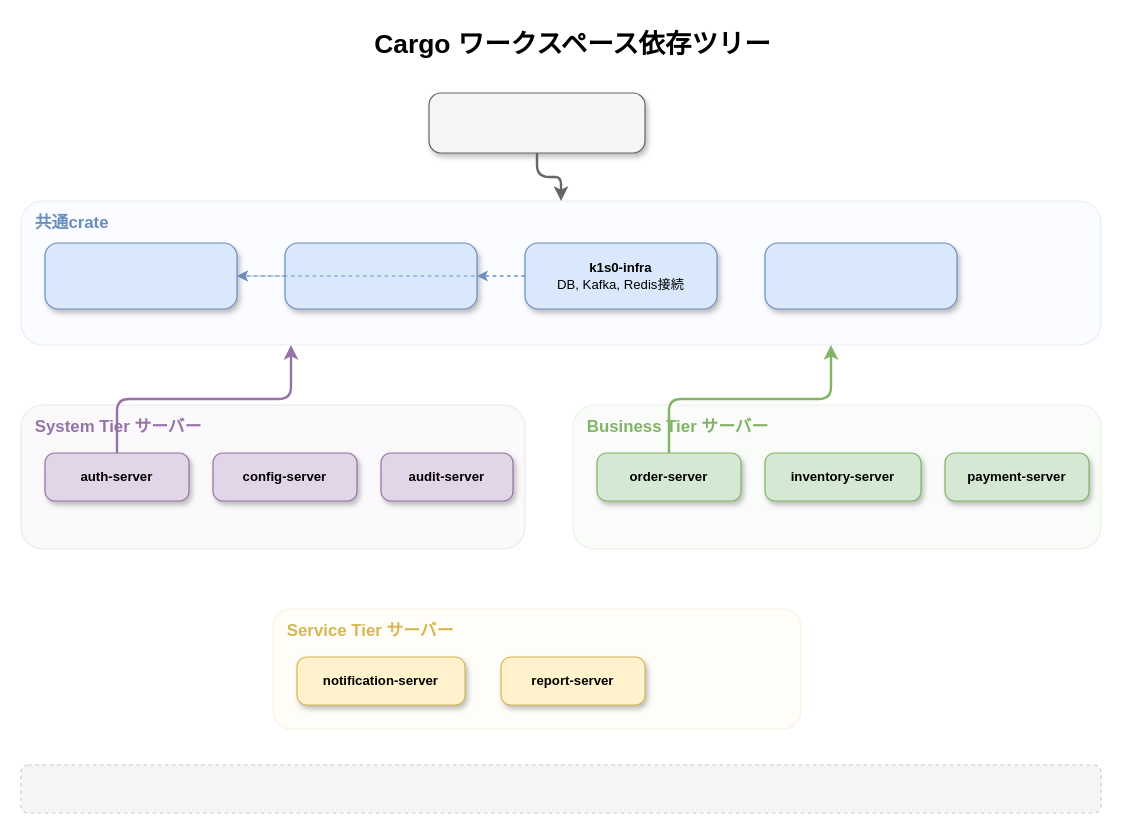
The diagram is 1122 pixels wide and 834 high, and some of its shapes have lost their labels. Here are the shapes that lost their labels. From the top down, the centre of each, then its label:
At (537,124): "k1s0-workspace (Cargo.toml)".
At (141,277): "k1s0-common エラー型, 設定, ログ".
At (381,277): "k1s0-domain ドメインモデル, Trait".
At (861,277): "k1s0-proto gRPC生成コード".
At (560,788): "凡例: ■ 共通crate ■ System ■ Business ■ Service ─── 依存方向（矢印先が依存先） - - - crate間内部依存".
